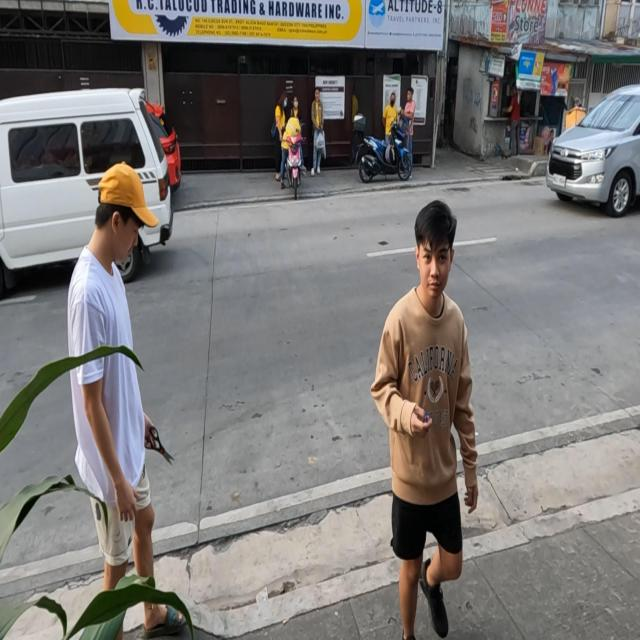scissor: (144, 425, 174, 465)
